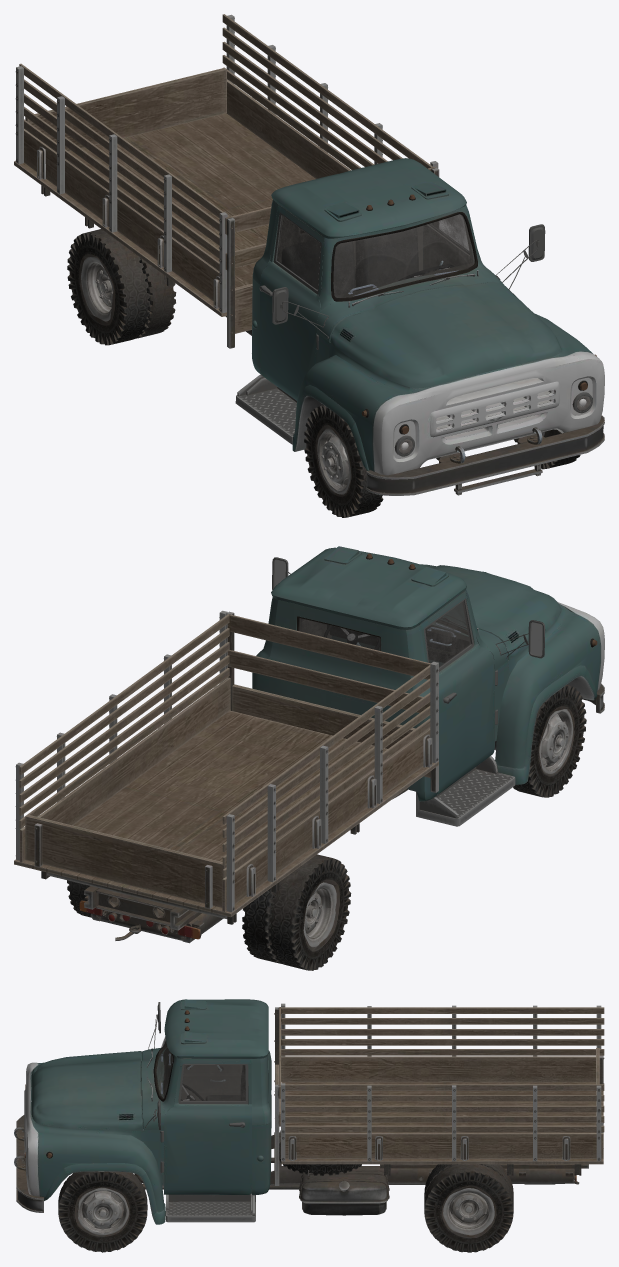
The model's file is zil.glb.
3 renders of one model, top to bottom at view 1: azimuth 30°, elevation 25°; view 2: azimuth 150°, elevation 25°; view 3: azimuth 270°, elevation 25°, orthographic. The views are drawn at different scales.
Visible parts, largest first — view 1: ZIL130_Cabin_ZIL130_Cabin_0, ZIL130_Back_ZIL130_Back_0, ZIL130_Tires_ZIL130_Tire_0, ZIL130_Glass_ZIL130_Glass_0, ZIL130_Base_ZIL130_Base_0, ZIL130_CabinDetals_ZIL130_CabinDetals_0, ZIL130_Inside_ZIL130_Inside_0, ZIL130_Wheels_ZIL130_Wheel_0; view 2: ZIL130_Back_ZIL130_Back_0, ZIL130_Cabin_ZIL130_Cabin_0, ZIL130_Tires_ZIL130_Tire_0, ZIL130_CabinDetals_ZIL130_CabinDetals_0, ZIL130_Wheels_ZIL130_Wheel_0, ZIL130_Glass_ZIL130_Glass_0, ZIL130_Base_ZIL130_Base_0, ZIL130_Inside_ZIL130_Inside_0; view 3: ZIL130_Back_ZIL130_Back_0, ZIL130_Cabin_ZIL130_Cabin_0, ZIL130_Tires_ZIL130_Tire_0, ZIL130_Base_ZIL130_Base_0, ZIL130_CabinDetals_ZIL130_CabinDetals_0, ZIL130_Wheels_ZIL130_Wheel_0, ZIL130_Glass_ZIL130_Glass_0, ZIL130_Inside_ZIL130_Inside_0.
Part boxes in pixels (x1,y1,x2,y2): ZIL130_Cabin_ZIL130_Cabin_0: [252, 158, 604, 475]; ZIL130_Back_ZIL130_Back_0: [14, 14, 439, 348]; ZIL130_Tires_ZIL130_Tire_0: [67, 229, 580, 517]; ZIL130_Glass_ZIL130_Glass_0: [276, 214, 474, 297]; ZIL130_Base_ZIL130_Base_0: [225, 316, 604, 495]; ZIL130_CabinDetals_ZIL130_CabinDetals_0: [235, 194, 596, 456]; ZIL130_Inside_ZIL130_Inside_0: [281, 228, 473, 297]; ZIL130_Wheels_ZIL130_Wheel_0: [81, 257, 544, 494]; ZIL130_Back_ZIL130_Back_0: [14, 610, 438, 930]; ZIL130_Cabin_ZIL130_Cabin_0: [252, 546, 604, 801]; ZIL130_Tires_ZIL130_Tire_0: [67, 684, 586, 970]; ZIL130_CabinDetals_ZIL130_CabinDetals_0: [272, 553, 597, 826]; ZIL130_Wheels_ZIL130_Wheel_0: [303, 709, 573, 947]; ZIL130_Glass_ZIL130_Glass_0: [299, 601, 471, 667]; ZIL130_Base_ZIL130_Base_0: [79, 683, 604, 943]; ZIL130_Inside_ZIL130_Inside_0: [327, 623, 469, 662]; ZIL130_Back_ZIL130_Back_0: [274, 1003, 604, 1185]; ZIL130_Cabin_ZIL130_Cabin_0: [24, 999, 271, 1224]; ZIL130_Tires_ZIL130_Tire_0: [58, 1130, 513, 1252]; ZIL130_Base_ZIL130_Base_0: [14, 1115, 579, 1215]; ZIL130_CabinDetals_ZIL130_CabinDetals_0: [25, 1002, 255, 1222]; ZIL130_Wheels_ZIL130_Wheel_0: [78, 1187, 494, 1235]; ZIL130_Glass_ZIL130_Glass_0: [155, 1037, 245, 1101]; ZIL130_Inside_ZIL130_Inside_0: [161, 1048, 245, 1100].
Size of the model in its own units: 2.76 by 2.39 by 6.7.
Materials: 14 (13 with a texture image).
